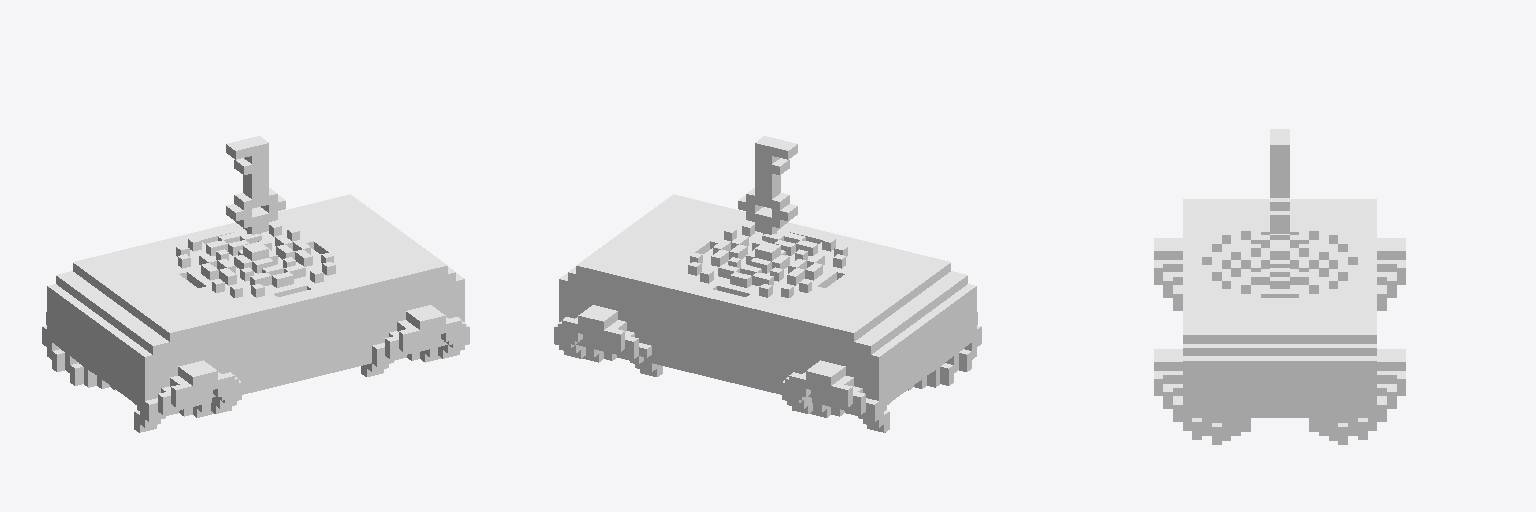
File: payload.obj
3 views of the same model, side by side, from view 1: azimuth 30°, elevation 25°; view 2: azimuth 150°, elevation 25°; view 3: azimuth 270°, elevation 25° (orthographic).
Visible parts, largest first — view 1: payload; view 2: payload; view 3: payload.
Part boxes in pixels (x1,y1,x2,y2): payload: (42, 136, 469, 432); payload: (554, 136, 981, 432); payload: (1154, 129, 1405, 444).
Bounding box in the file's own units: 38 × 26 × 26.